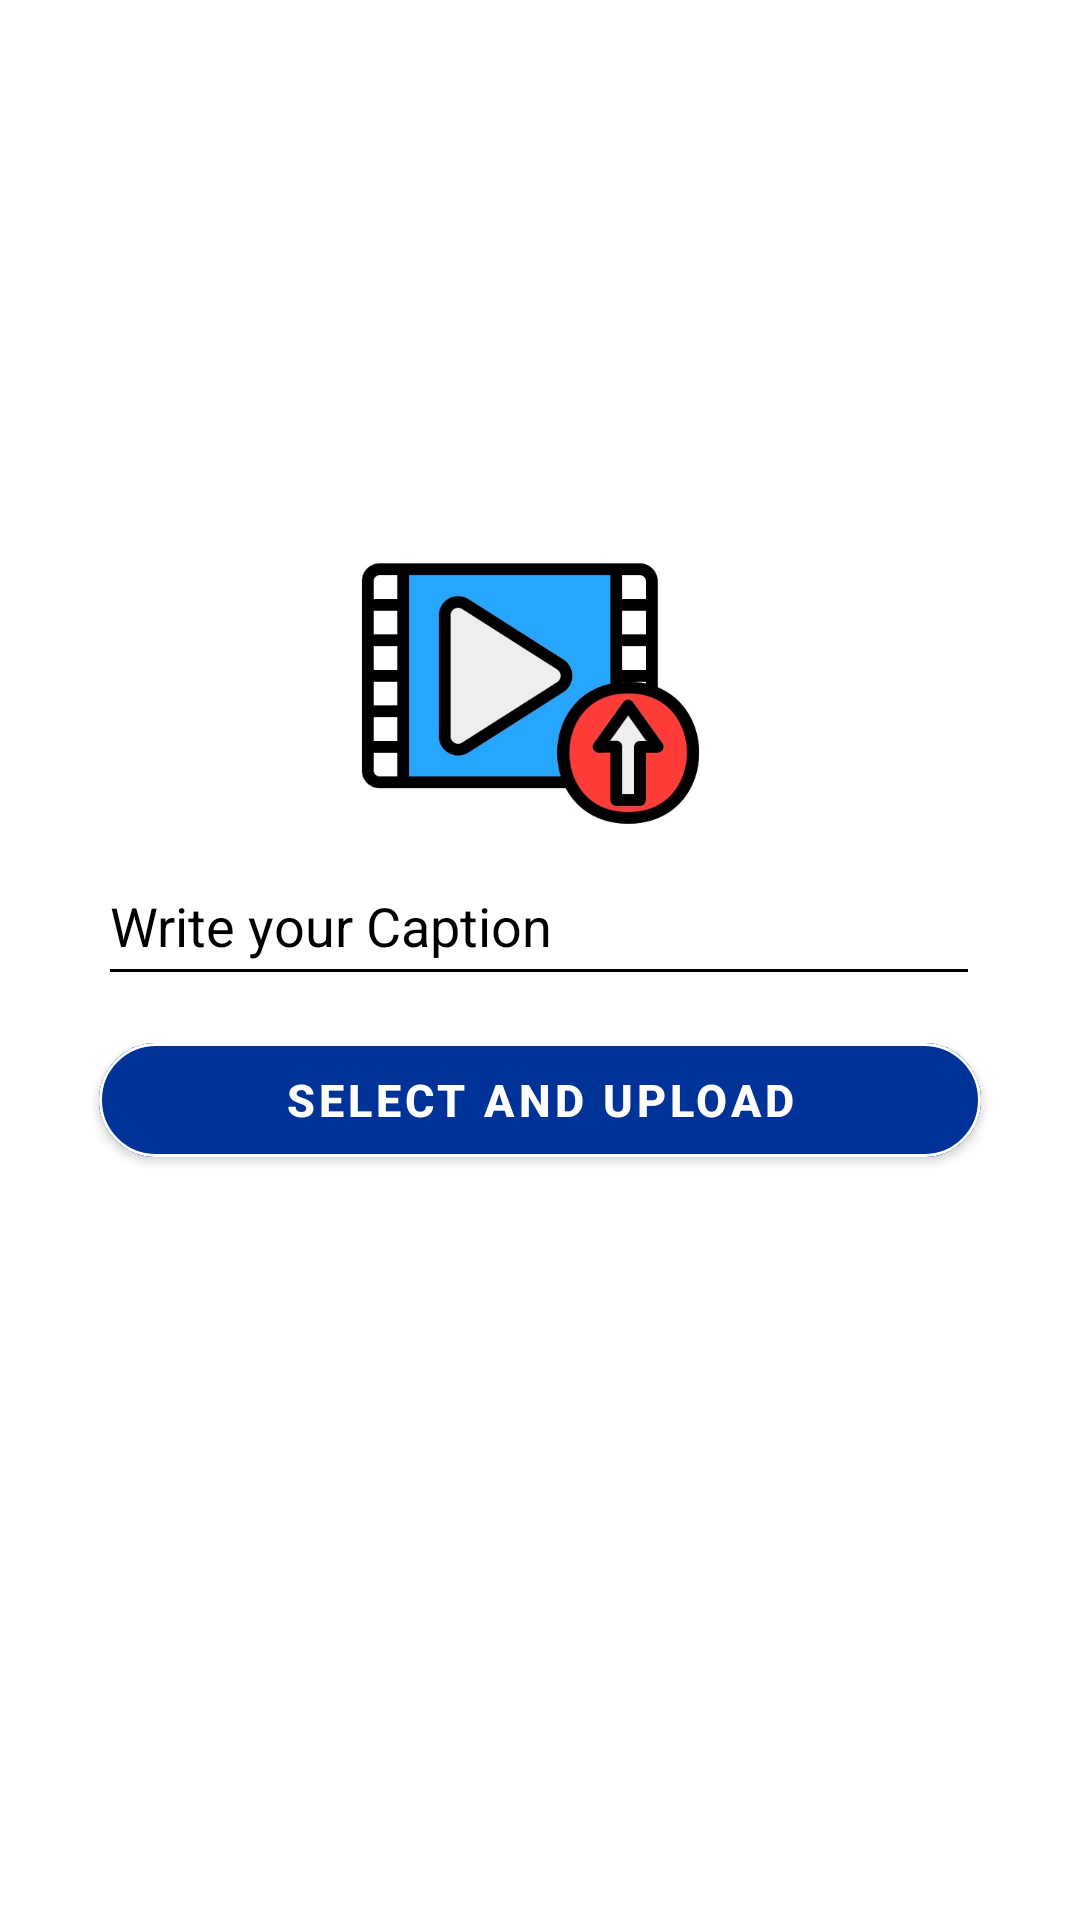

Icons on this 1080 × 1920 Android screen, each with its box as Rect(x1, y1, x2, y2):
videoupload: Rect(362, 563, 699, 824)
